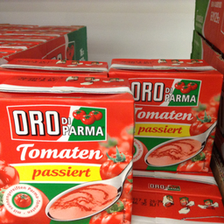tomato_sauce: (1, 74, 134, 224), (110, 55, 223, 171)
